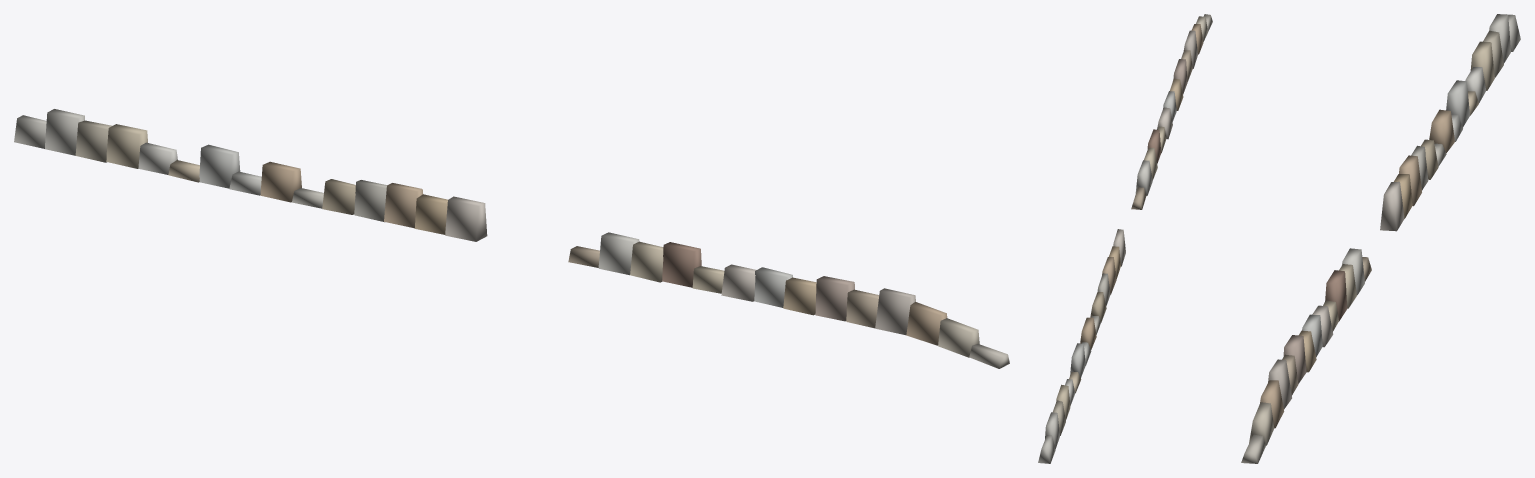
File: farm_-34_-27_far.glb
3 views of the same model, side by side, from view 1: azimuth 30°, elevation 25°; view 2: azimuth 150°, elevation 25°; view 3: azimuth 330°, elevation 25° (orthographic). The views are drawn at different scales.
Parts seen in each view (by area): view 1: geometry_0; view 2: geometry_0; view 3: geometry_0.
Boxes of the visible parts, left/top/right/bottom form: geometry_0: left=14, top=109, right=1009, bottom=368; geometry_0: left=1038, top=14, right=1212, bottom=463; geometry_0: left=1241, top=14, right=1520, bottom=463.
Size of the model in its own units: 16.76 by 7.18 by 47.13.
